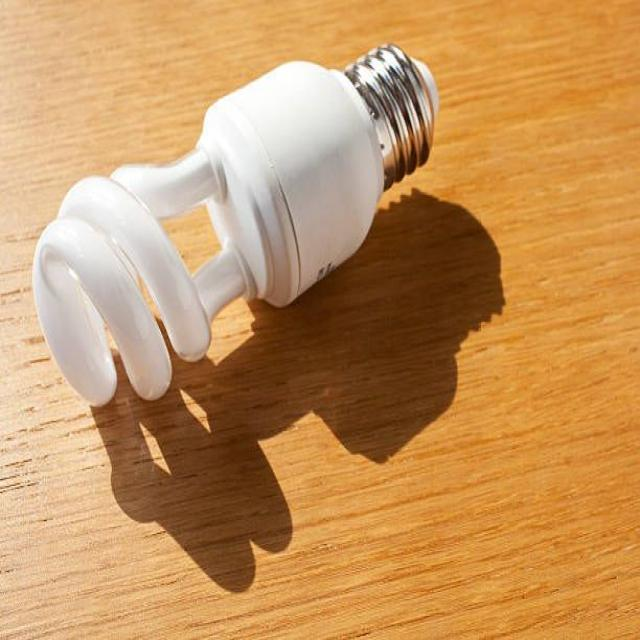electronic: (32, 39, 440, 407)
